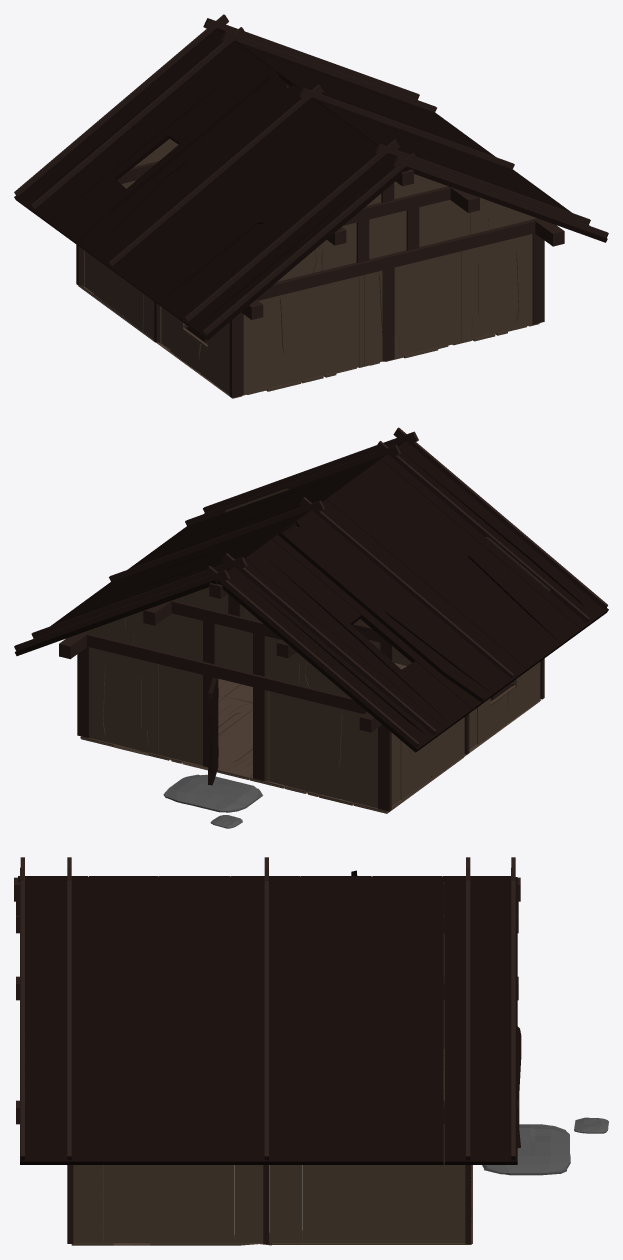
File: house_temp.fbx
3 renders of one model, top to bottom at view 1: azimuth 30°, elevation 25°; view 2: azimuth 150°, elevation 25°; view 3: azimuth 270°, elevation 25°, orthographic. The views are drawn at different scales.
Parts seen in each view (by area): view 1: Roof001, Roof002, Structure, Walls002, Walls001, Floor002; view 2: Roof001, Roof002, Structure, Walls001, Walls002, OutsideRock, Floor002, Floor001, door, Plane; view 3: Roof002, Roof001, Walls002, Walls001, Structure, OutsideRock, Floor001, Plane.
Boxes of the visible parts, x1,y1,x2,y2 form: Roof001: (14, 28, 571, 340); Roof002: (42, 28, 607, 319); Structure: (14, 14, 608, 397); Walls002: (81, 139, 532, 389); Walls001: (94, 143, 536, 395); Floor002: (78, 285, 507, 391); Roof001: (50, 441, 608, 752); Roof002: (15, 441, 581, 731); Structure: (14, 427, 607, 811); Walls001: (89, 488, 540, 802); Walls002: (85, 491, 549, 808); OutsideRock: (163, 774, 262, 828); Floor002: (81, 665, 463, 813); Floor001: (114, 663, 539, 805); door: (208, 677, 218, 785); Plane: (80, 700, 540, 812); Roof002: (20, 876, 517, 1164); Roof001: (18, 870, 510, 1164); Walls002: (103, 933, 465, 1243); Walls001: (73, 1165, 432, 1243); Structure: (14, 857, 520, 1243); OutsideRock: (482, 1117, 608, 1175); Floor001: (71, 1069, 472, 1245); Plane: (73, 1165, 472, 1243).
Bounding box in the file's own units: 1011 × 530 × 989.
